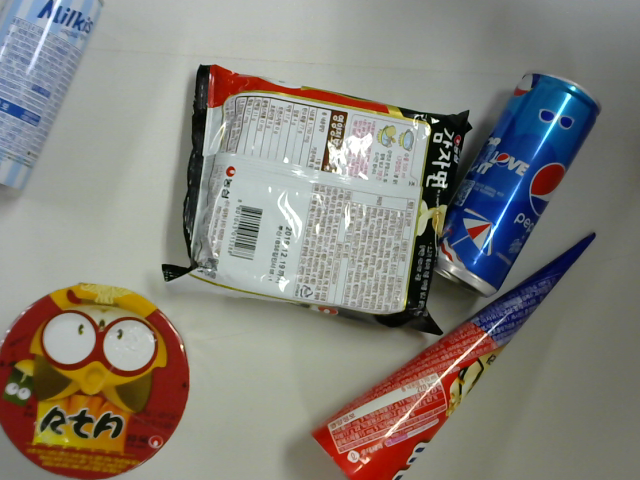Milkies_250ml: (1, 1, 105, 187)
Pepsi_Cola_Can_250ml: (432, 73, 602, 306)
Potato: (187, 64, 448, 326)
Raccoon: (3, 284, 188, 480)
World_Cone_Banila: (307, 232, 598, 480)
